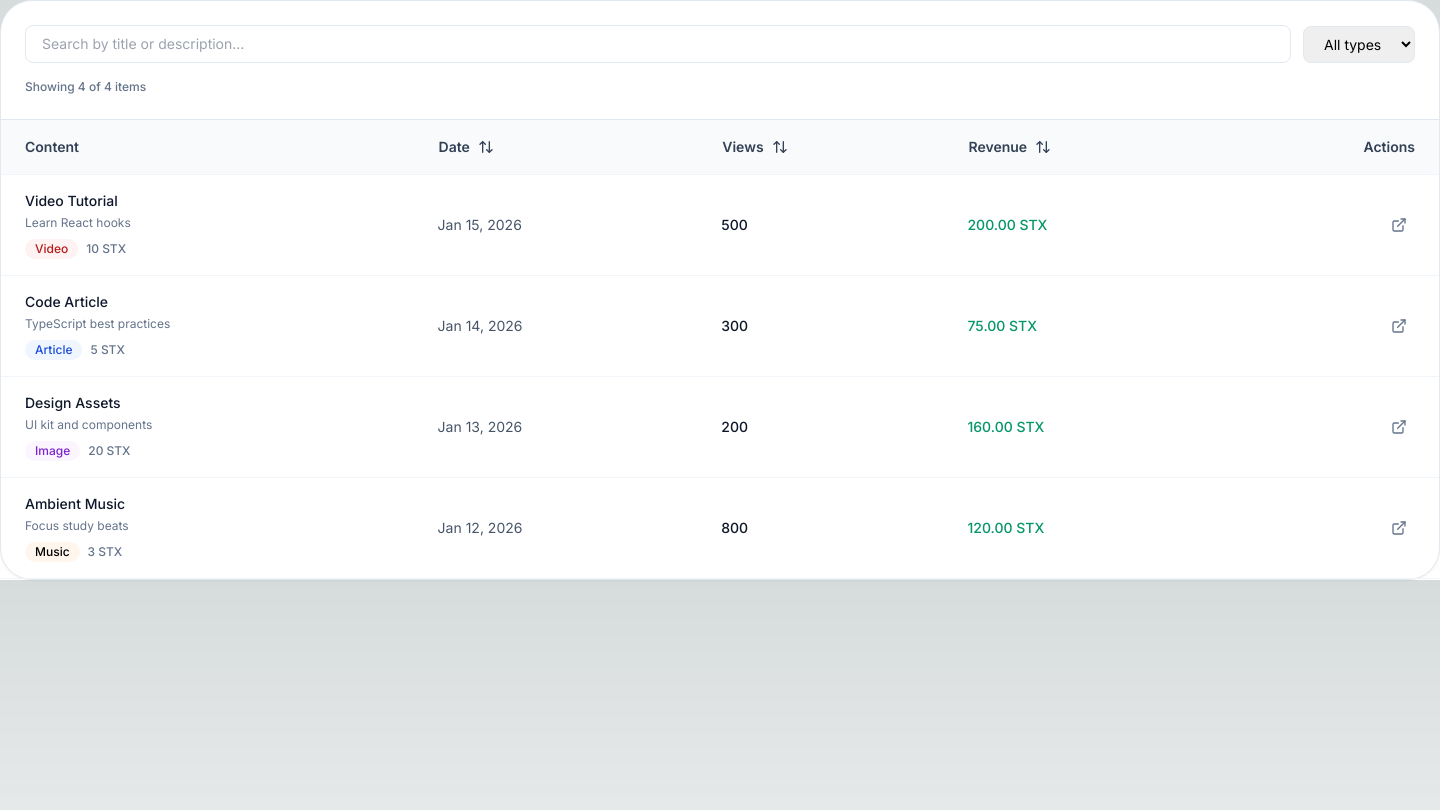
Test case: ContentBrowser Integration Tests › allows clearing filters to reset view
Note: Apply filter and search
Select "Video" in the dropdown named "filter" at (1359, 44), box [1303, 26, 1415, 62]
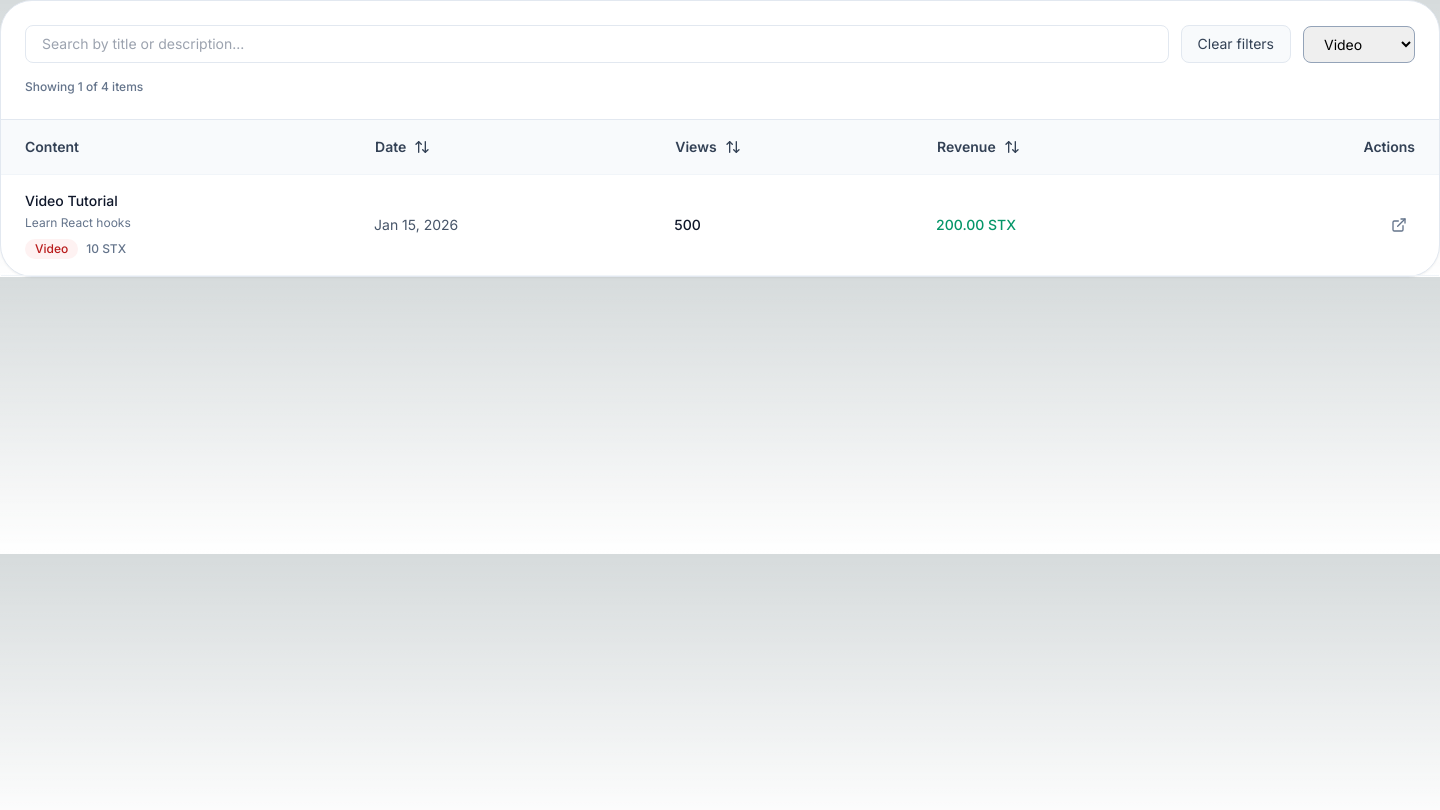
Type "react" into the field with placeholder "Search by title or description..." at (597, 44), box [25, 25, 1169, 63]
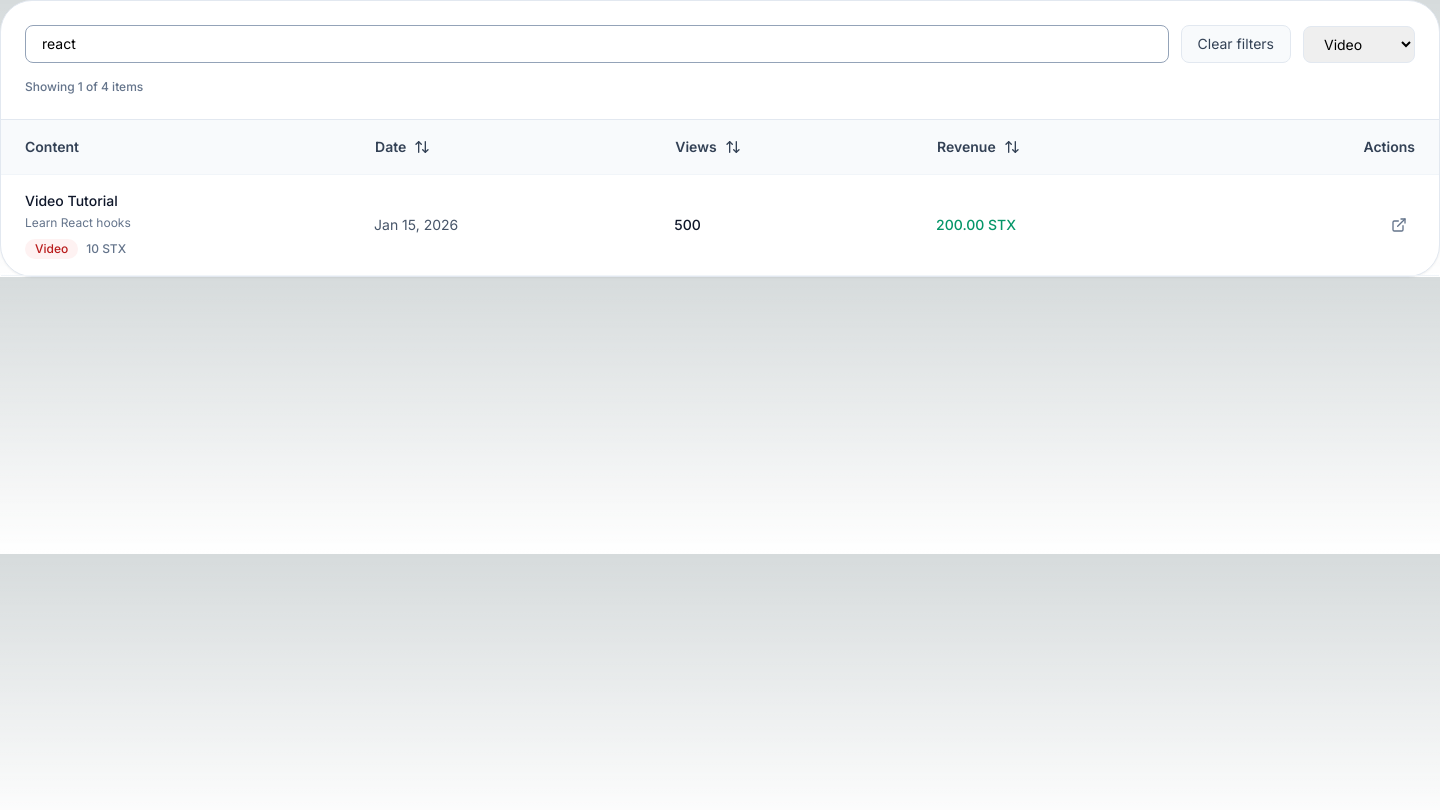
Expected: the text "Showing 1 of 4 items" is shown, [25, 79, 143, 94]
Note: Clear filters
Click the button "Clear filters" at (1236, 44), box [1181, 25, 1291, 63]
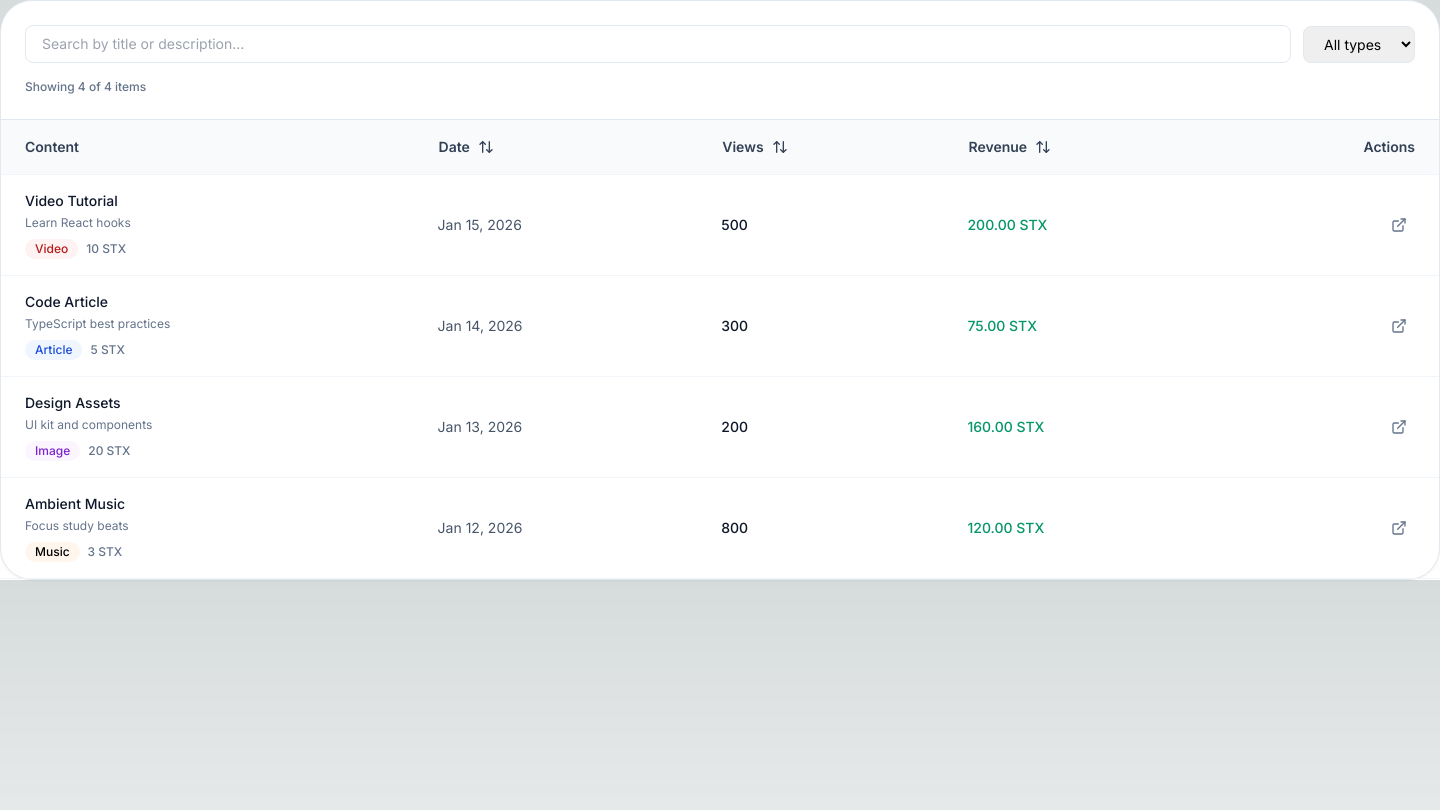
Expected: the text "Showing 4 of 4 items" is shown, [25, 79, 146, 94]
Expected: the text "Code Article" is shown, [25, 293, 108, 310]
Expected: the text "Design Assets" is shown, [25, 394, 121, 411]
